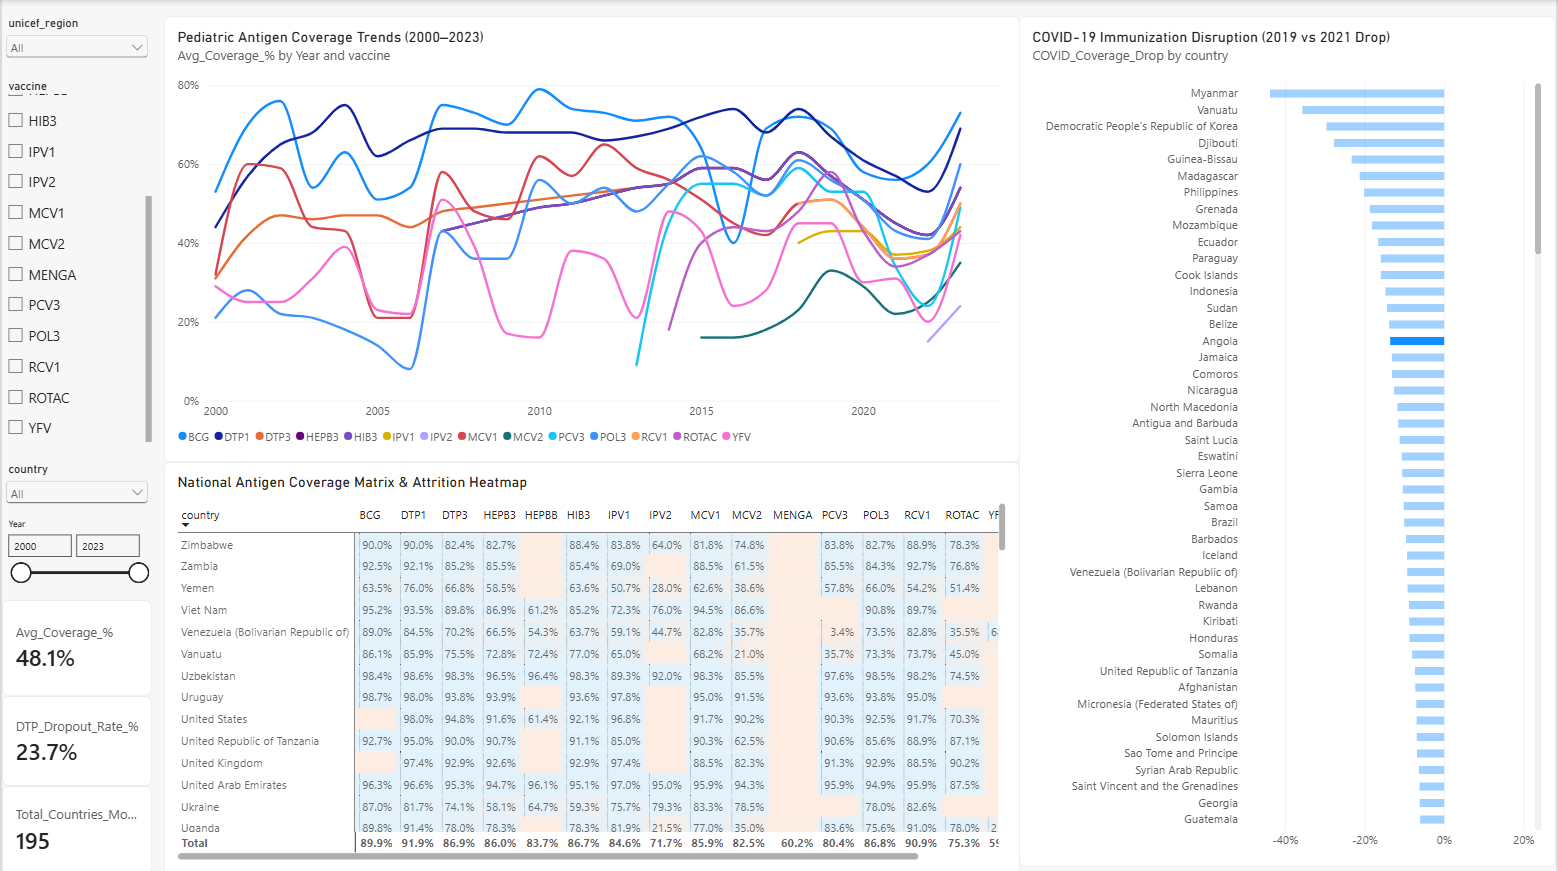

Layout of this report page (visuals, bound fields, positions):
{"tool":"powerbi","page":{"name":"Page 1","canvas":[1920,1080],"ordinal":0},"visuals":[{"type":"slicer","fields":{"Values":["Dim_Country.unicef_region"]},"box":[0,20,280,66],"z":0},{"type":"slicer","fields":{"Values":["Dim_Vaccine.vaccine"]},"box":[0,98,280,244],"z":1000},{"type":"slicer","fields":{"Values":["Dim_Country.country"]},"box":[0,364,280,280],"z":2000},{"type":"slicer","fields":{"Values":["Dim_Calendar.Year"]},"box":[0,658,280,98],"z":3000},{"type":"cardVisual","fields":{"Data":["_Measures.Avg_Coverage_%"]},"box":[0,740,280,120],"z":4000},{"type":"cardVisual","fields":{"Data":["_Measures.DTP_Dropout_Rate_%"]},"box":[0,860,280,110],"z":5000},{"type":"cardVisual","fields":{"Data":["Count(Dim_Country.country)"]},"box":[0,970,280,110],"z":6000},{"type":"lineChart","fields":{"Category":["Dim_Calendar.Year"],"Series":["Dim_Vaccine.vaccine"],"Y":["_Measures.Avg_Coverage_%"]},"box":[280,20,1024,550],"z":6001},{"type":"clusteredBarChart","fields":{"Category":["Dim_Country.country"],"Y":["_Measures.COVID_Coverage_Drop"]},"box":[1304,20,616,1050],"z":6002},{"type":"pivotTable","fields":{"Columns":["Dim_Vaccine.vaccine"],"Rows":["Dim_Country.country"],"Values":["_Measures.Avg_Coverage_%"]},"box":[280,570,1024,510],"z":6003}]}

Visuals, with their boxes in screenshot pixels (x1, y1, x2, y2), scaled from the page's 1920x1080 canvas onto the 1558x871 screenshot:
slicer - Dim_Country.unicef_region: 0:16:227:69
slicer - Dim_Vaccine.vaccine: 0:79:227:276
slicer - Dim_Country.country: 0:294:227:519
slicer - Dim_Calendar.Year: 0:531:227:610
cardVisual - _Measures.Avg_Coverage_%: 0:597:227:694
cardVisual - _Measures.DTP_Dropout_Rate_%: 0:694:227:782
cardVisual - Count(Dim_Country.country): 0:782:227:870
lineChart - Dim_Calendar.Year x Dim_Vaccine.vaccine: 227:16:1058:460
clusteredBarChart - Dim_Country.country x _Measures.COVID_Coverage_Drop: 1058:16:1557:863
pivotTable - Dim_Vaccine.vaccine x Dim_Country.country: 227:460:1058:870
